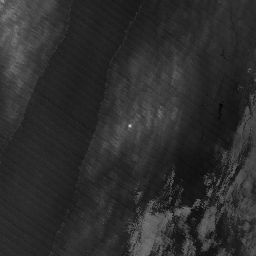Target: (126, 123, 134, 130)
